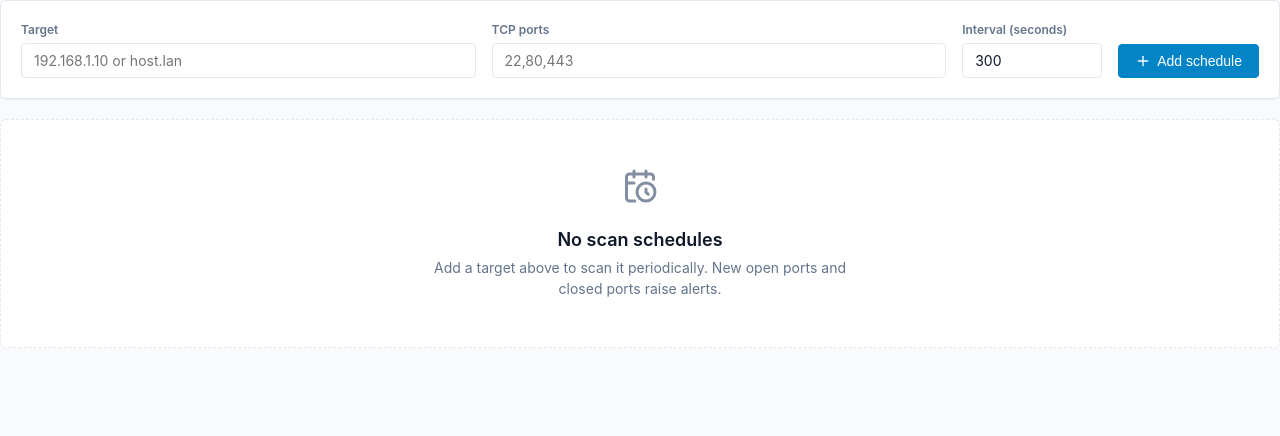
it: Schedules Page › creates a schedule from the form
Check: the heading "No scan schedules" is shown, box [557,226,722,253]
Type "10.0.0.1" into the field labelled "Target" at (248, 60), box [21,43,476,78]
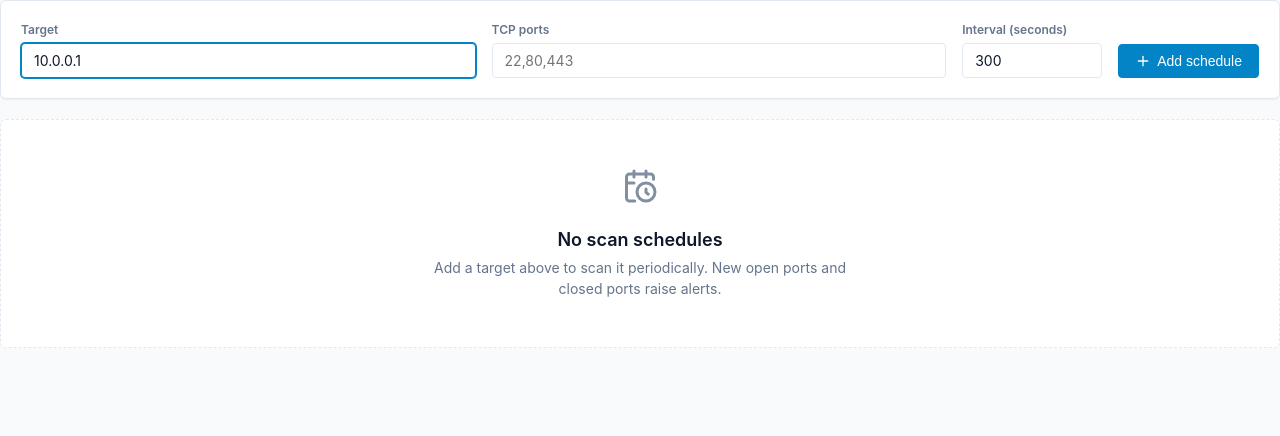
Type "22, 8080" into the field labelled "TCP ports" at (719, 60), box [492,43,946,78]
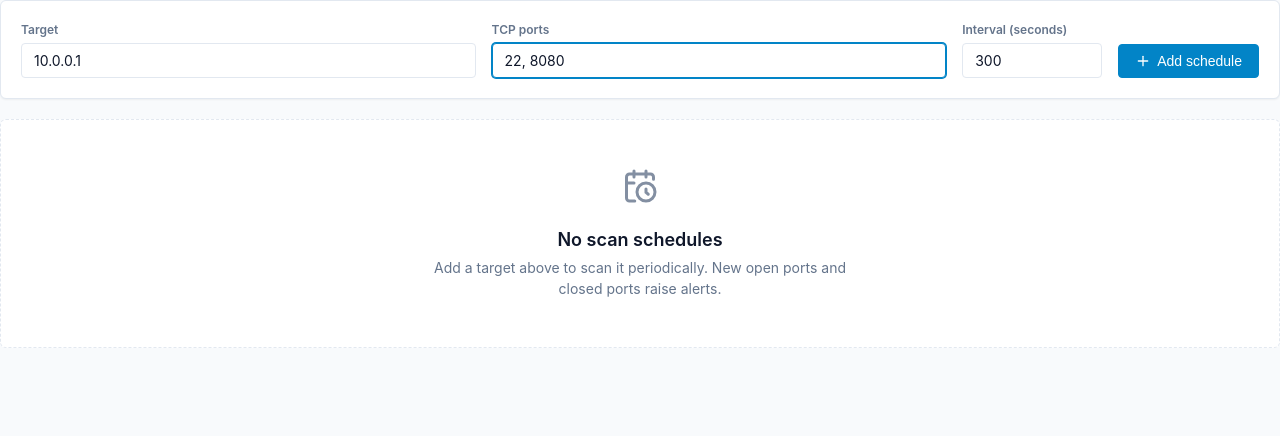
Replace the text in the number field labelled "Interval (seconds)" with "600" at (1032, 60), box [962,43,1102,78]
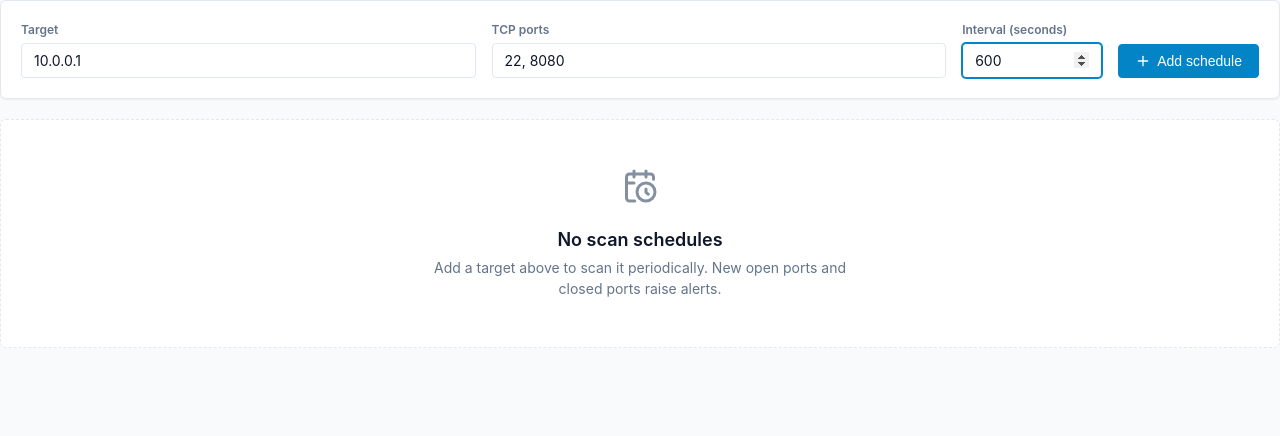
Click the button "Add schedule" at (1189, 61), box [1118,44,1259,78]
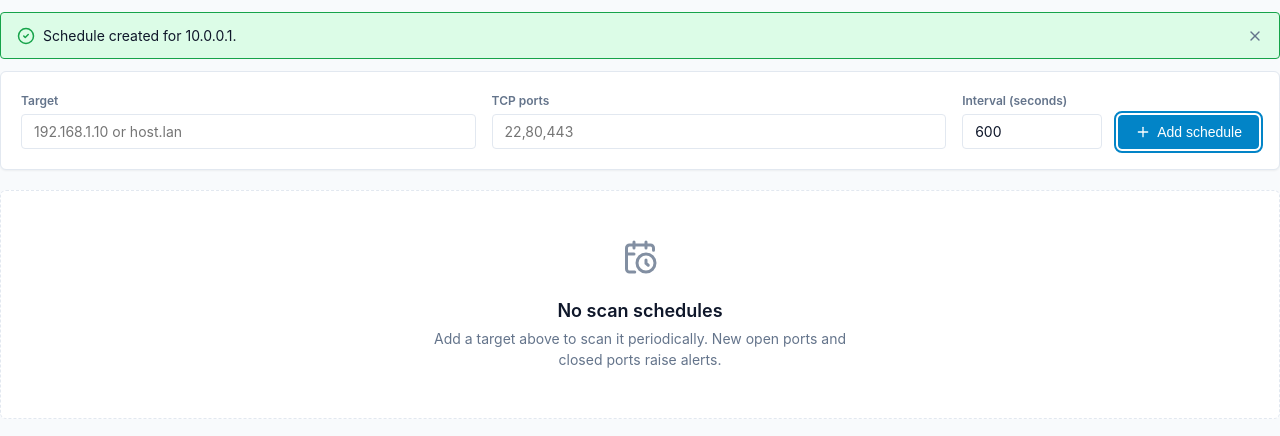
Check: the text "Schedule created for 10.0.0.1." is shown, box [43,25,236,46]
